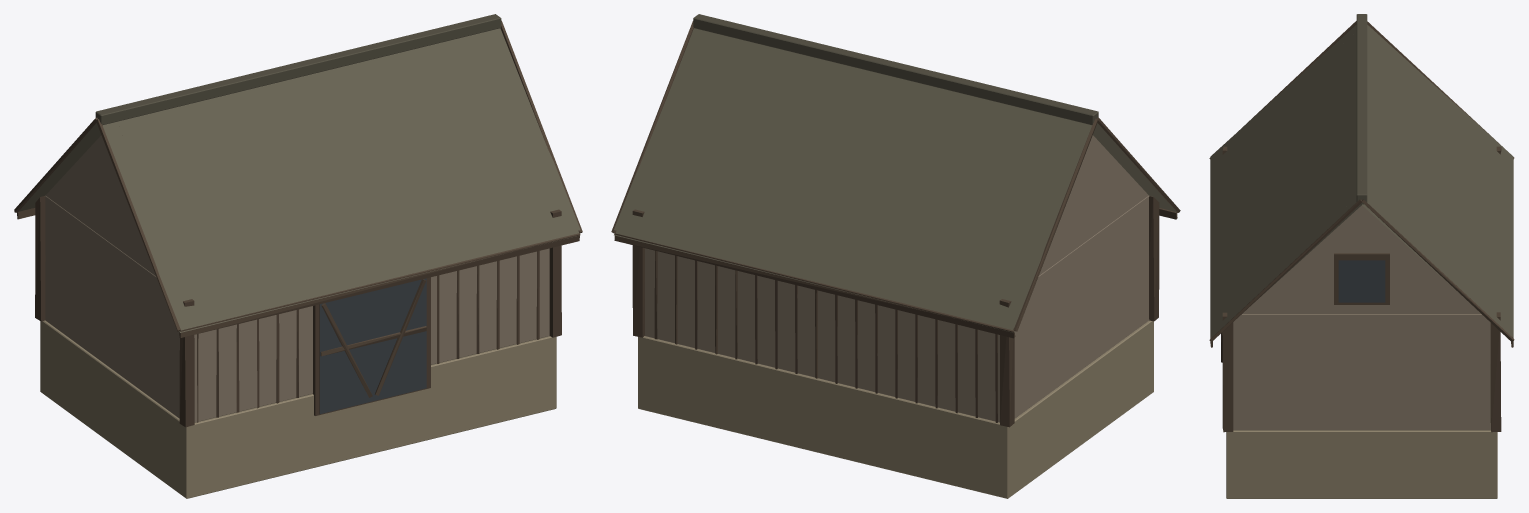
File: barn-lod1.glb
3 views of the same model, side by side, from view 1: azimuth 30°, elevation 25°; view 2: azimuth 150°, elevation 25°; view 3: azimuth 270°, elevation 25° (orthographic). The views are drawn at different scales.
Bounding box in the file's own units: 12.14 × 9.62 × 8.54.
